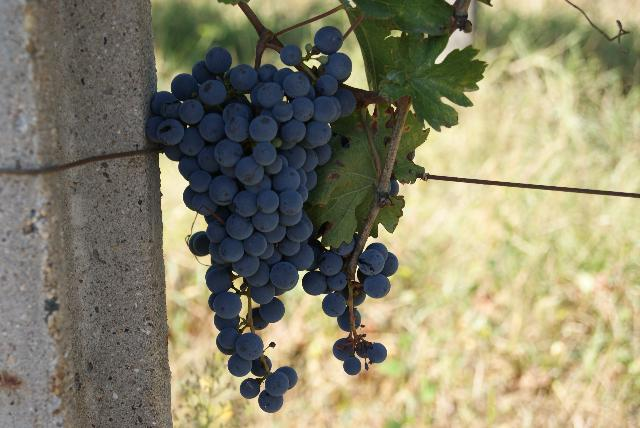grapes: (150, 26, 398, 410)
